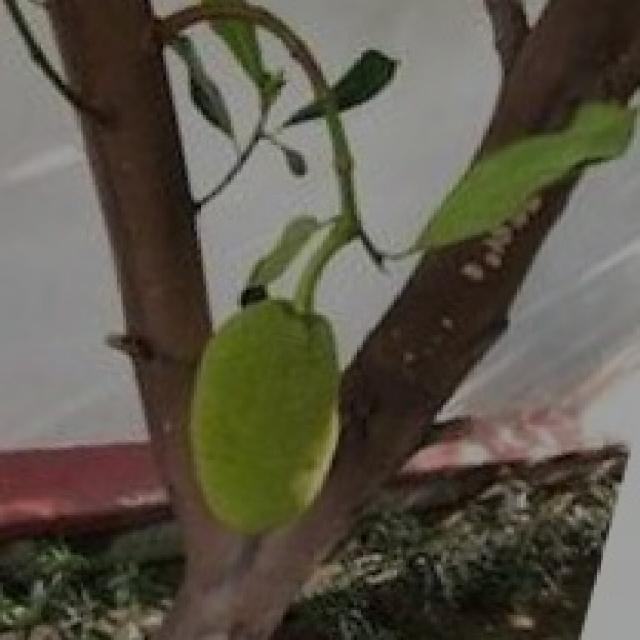Fruit: (151, 275, 372, 563)
